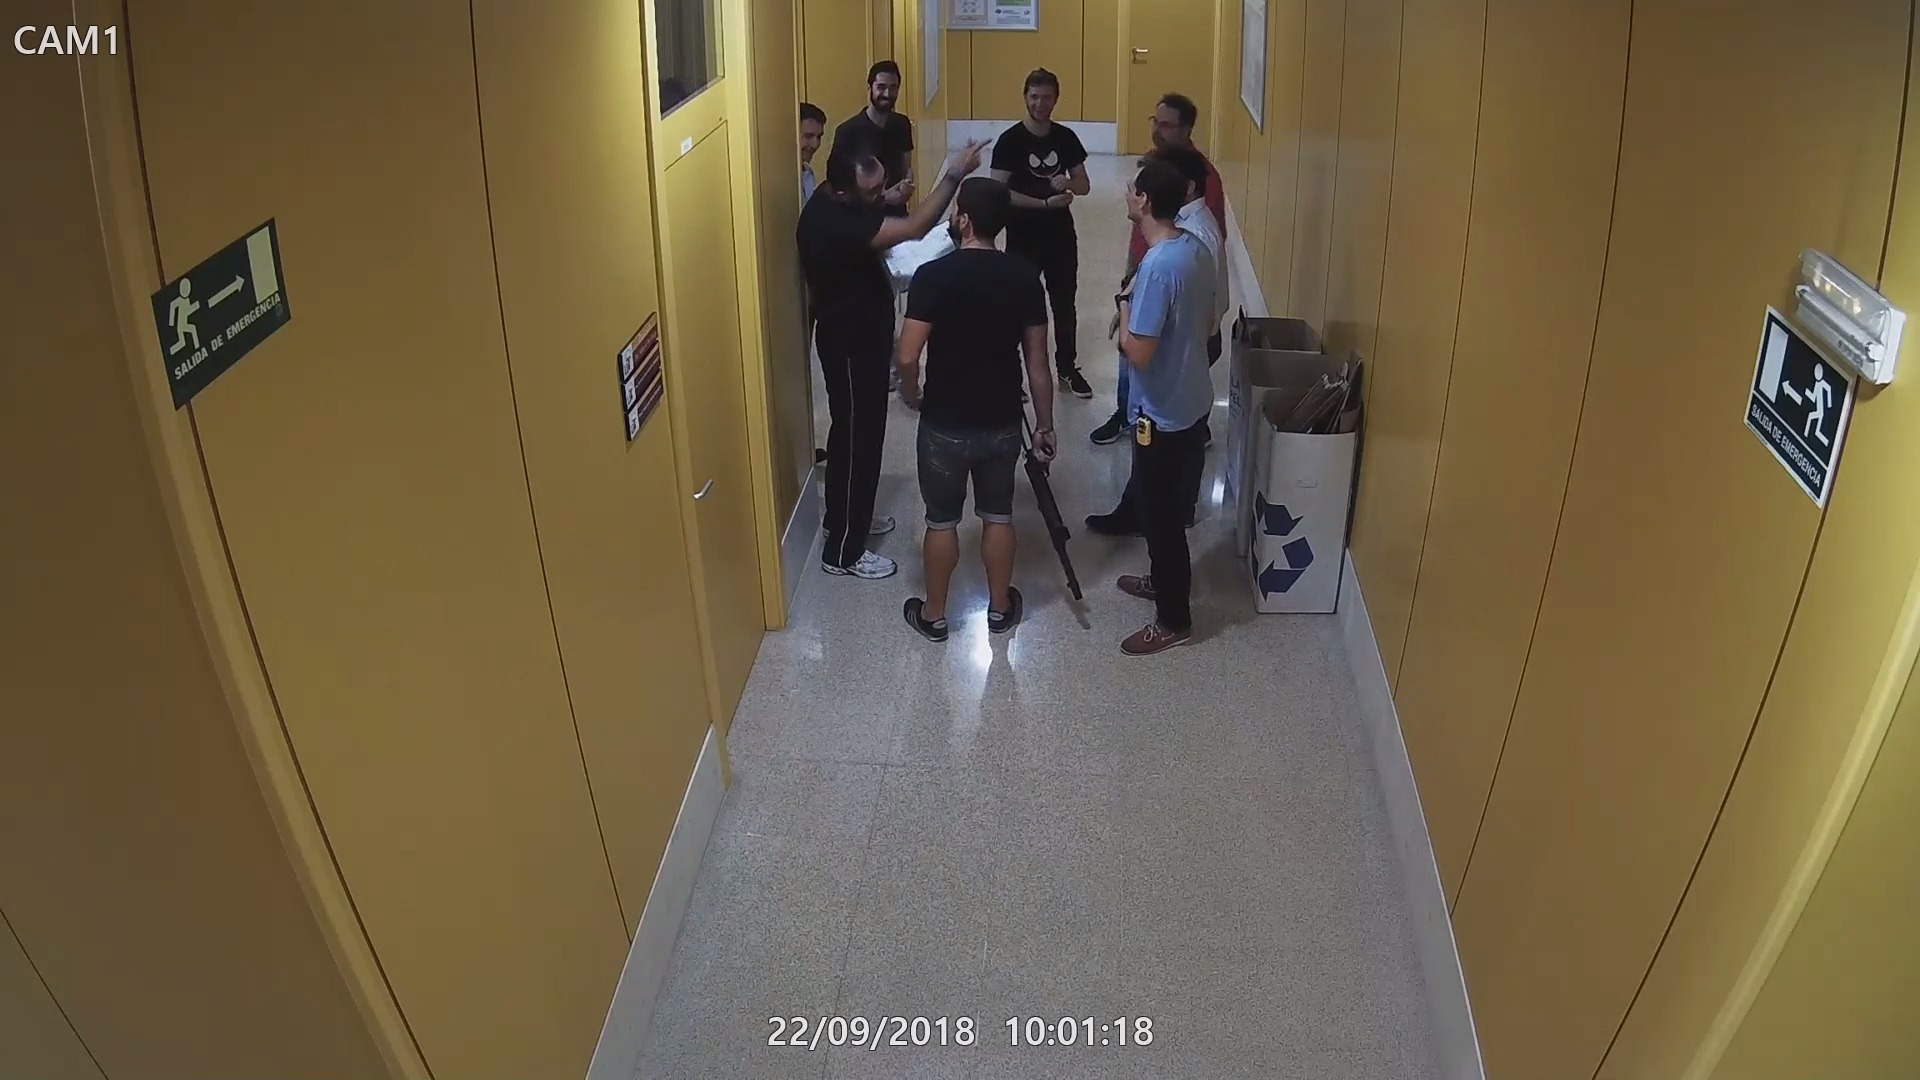Short_rifle: (1023, 429, 1088, 605)
